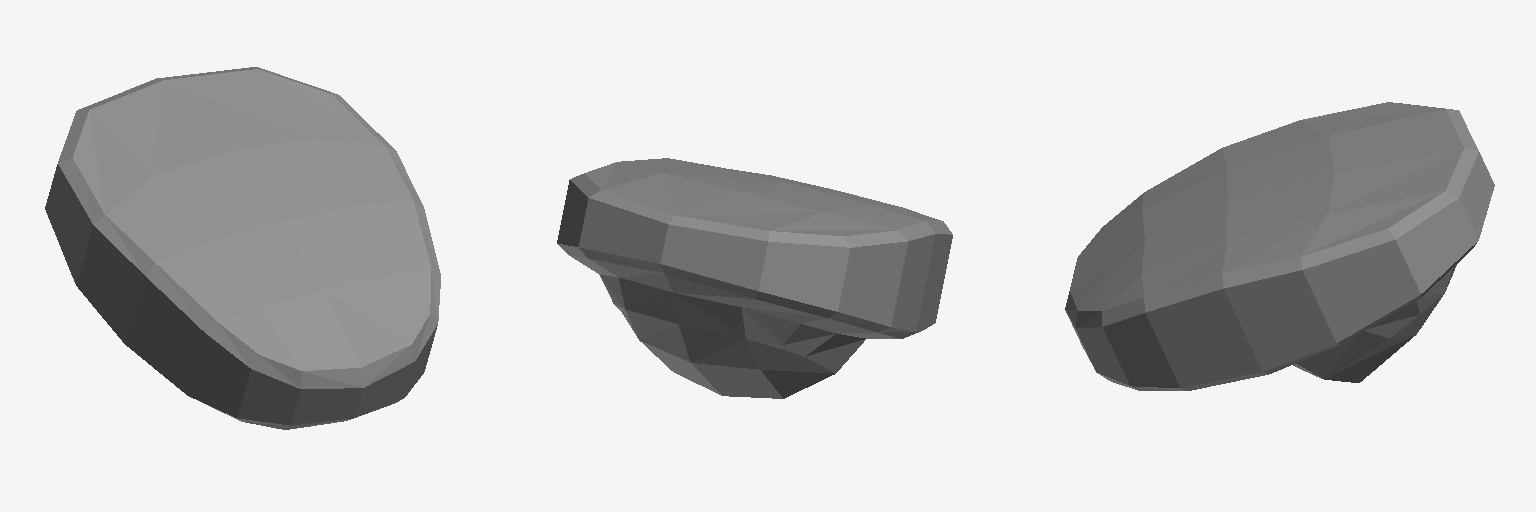
The model's file is faroIzq.obj.
The picture shows the model from 3 angles: view 1: azimuth 30°, elevation 25°; view 2: azimuth 150°, elevation 25°; view 3: azimuth 270°, elevation 25°; orthographic projection.
Parts seen in each view (by area): view 1: rHeadlight; view 2: rHeadlight; view 3: rHeadlight.
Boxes of the visible parts, x1,y1,x2,y2 form: rHeadlight: [45, 67, 440, 429]; rHeadlight: [557, 158, 952, 398]; rHeadlight: [1065, 102, 1494, 390].
Bounding box in the file's own units: 0.772 × 0.5266 × 0.9485.